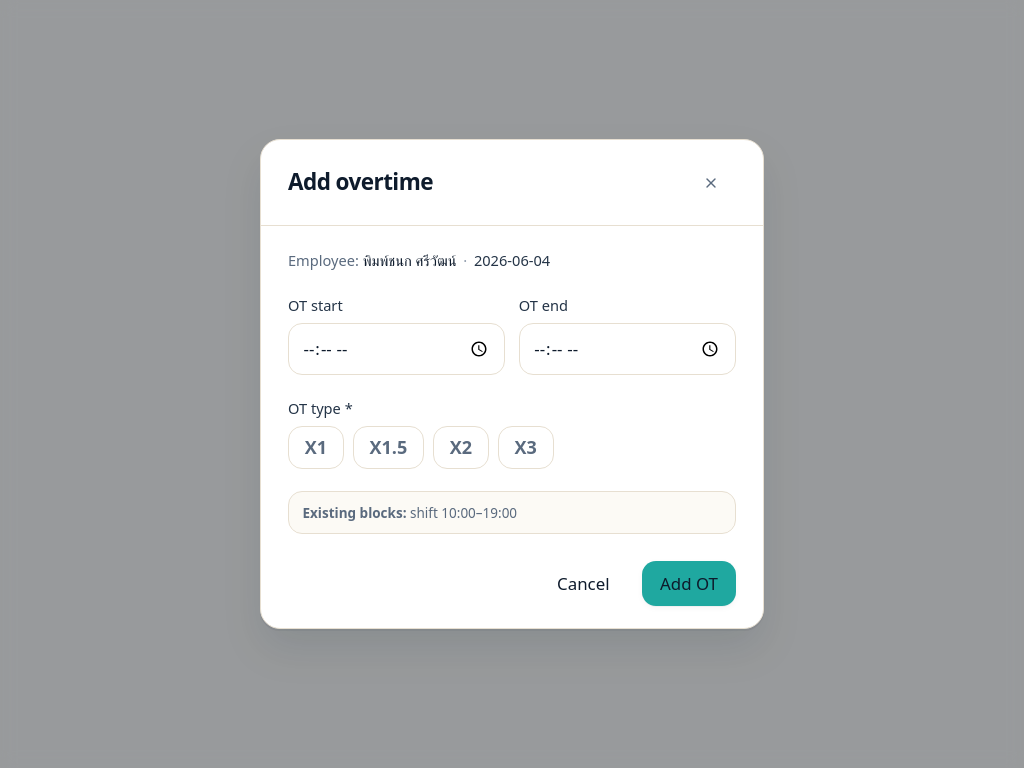
it: OtScheduleModal — STA-260 › cannot save without choosing an OT type (x1…x3)
This screenshot has width=1024, height=768.
Type "19:00" into the time field with test id "ot-start-input" at (397, 349), box [288,323,505,374]
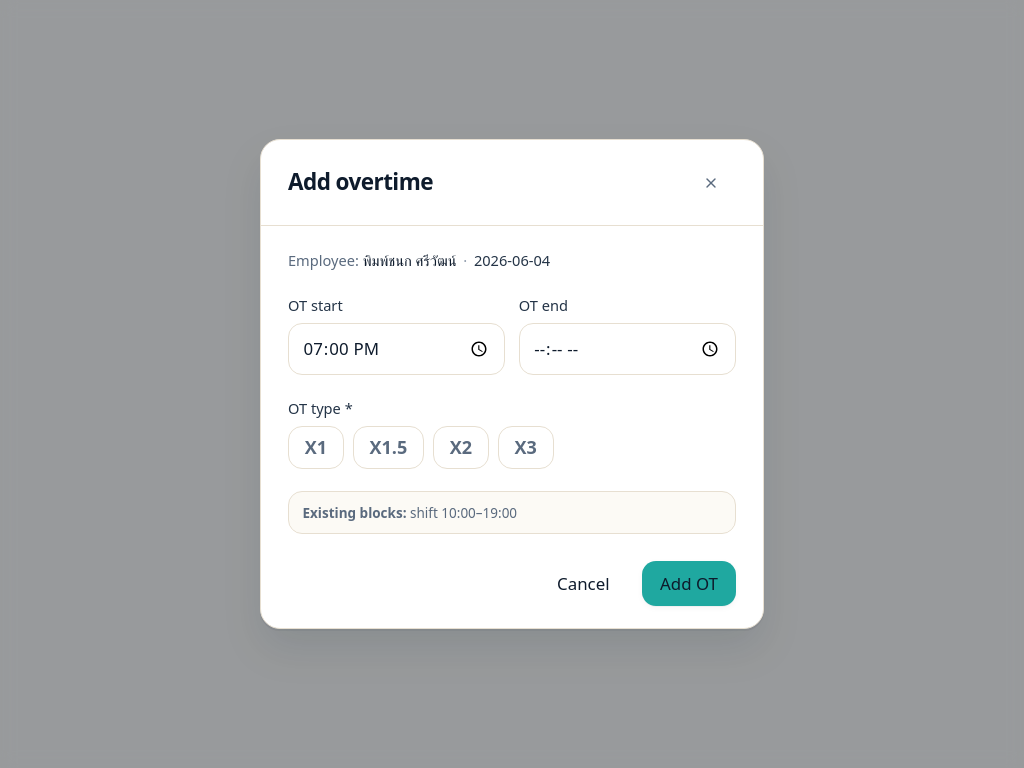
Type "21:00" into the time field with test id "ot-end-input" at (627, 349), box [519,323,736,374]
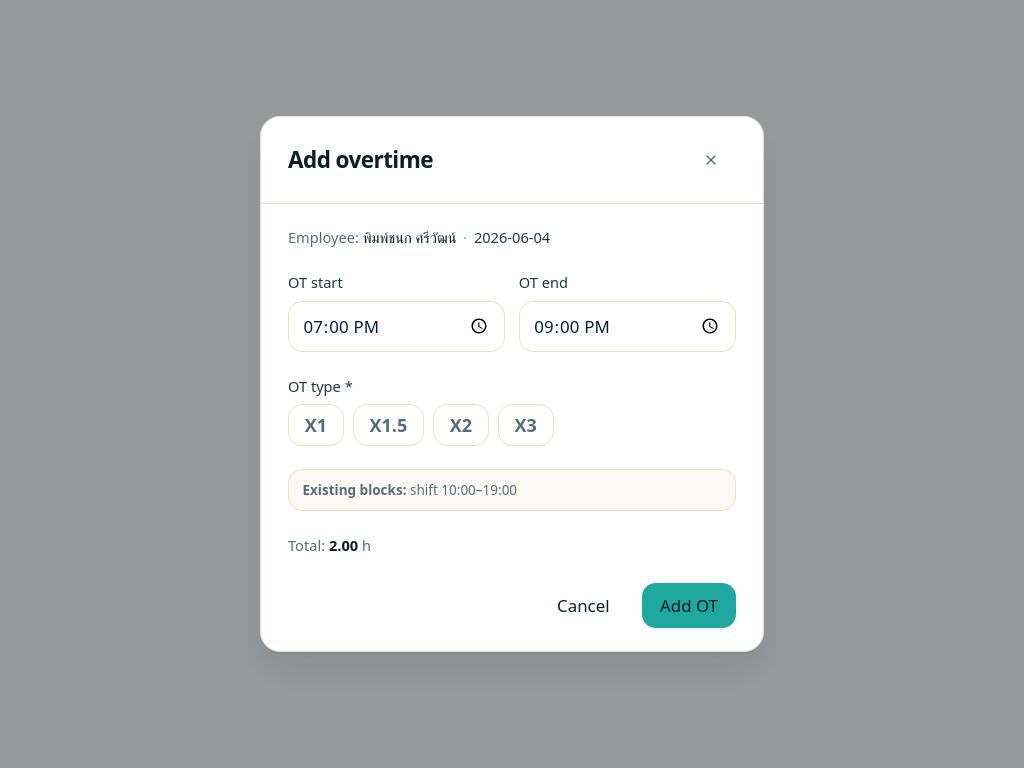
Click the button with test id "ot-schedule-save" at (689, 606), box [642,583,736,628]
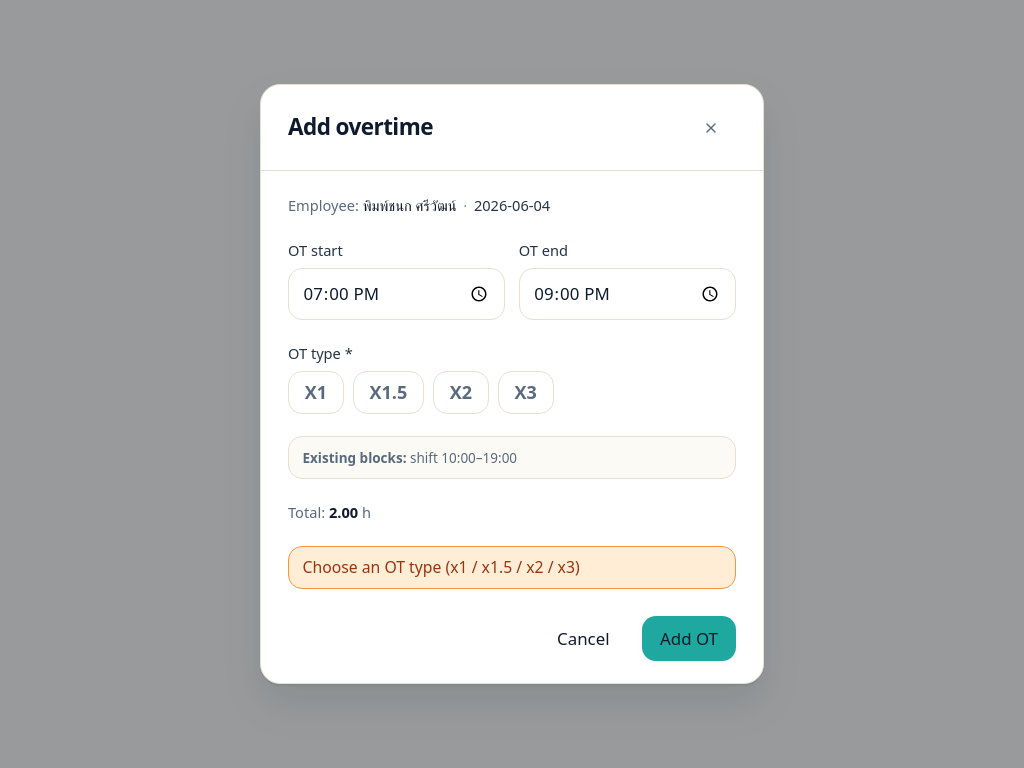
Expected: the text with test id "ot-schedule-error" shows "OT type", [302,556,580,578]
